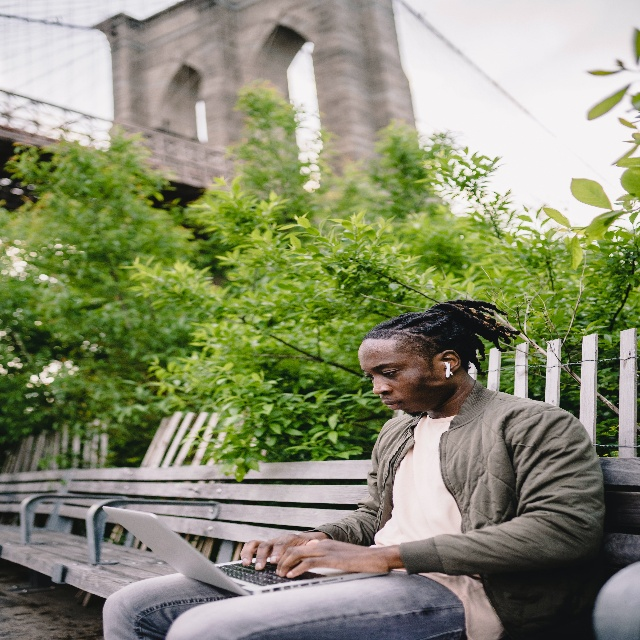Sin_guantes: (278, 536, 388, 580), (240, 533, 323, 569)
